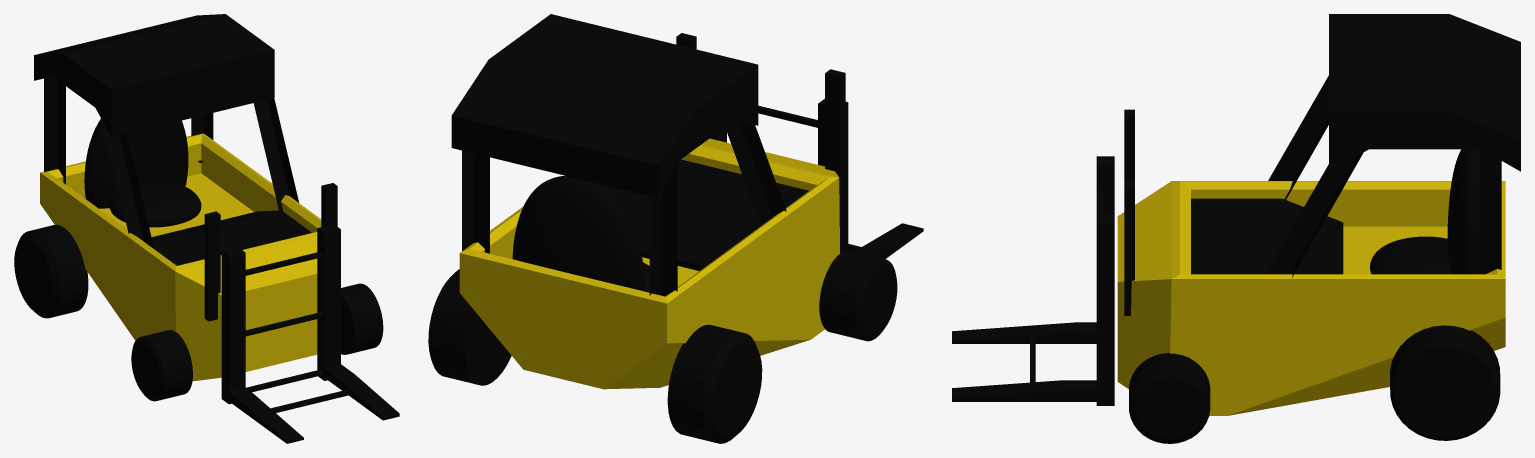
File: ForkliftBody.fbx
3 views of the same model, side by side, from view 1: azimuth 30°, elevation 25°; view 2: azimuth 150°, elevation 25°; view 3: azimuth 270°, elevation 25° (orthographic). The views are drawn at different scales.
Visible parts, largest first — view 1: ForkliftBody; view 2: ForkliftBody; view 3: ForkliftBody.
Part boxes in pixels (x1=…): ForkliftBody: x1=14, y1=14, x2=399, y2=443; ForkliftBody: x1=428, y1=14, x2=923, y2=443; ForkliftBody: x1=952, y1=14, x2=1520, y2=443.
Size of the model in its own units: 176 by 313 by 192.
